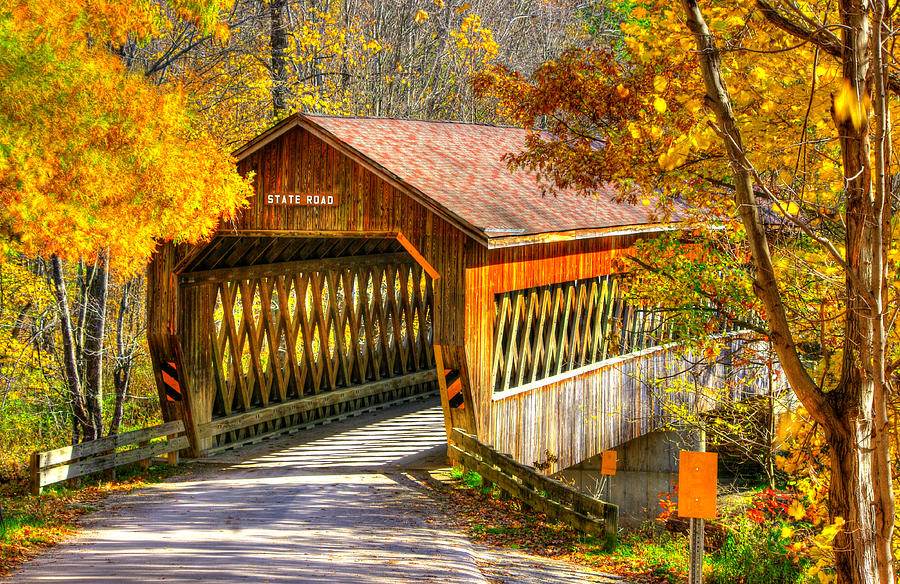bridge: (143, 104, 754, 441)
